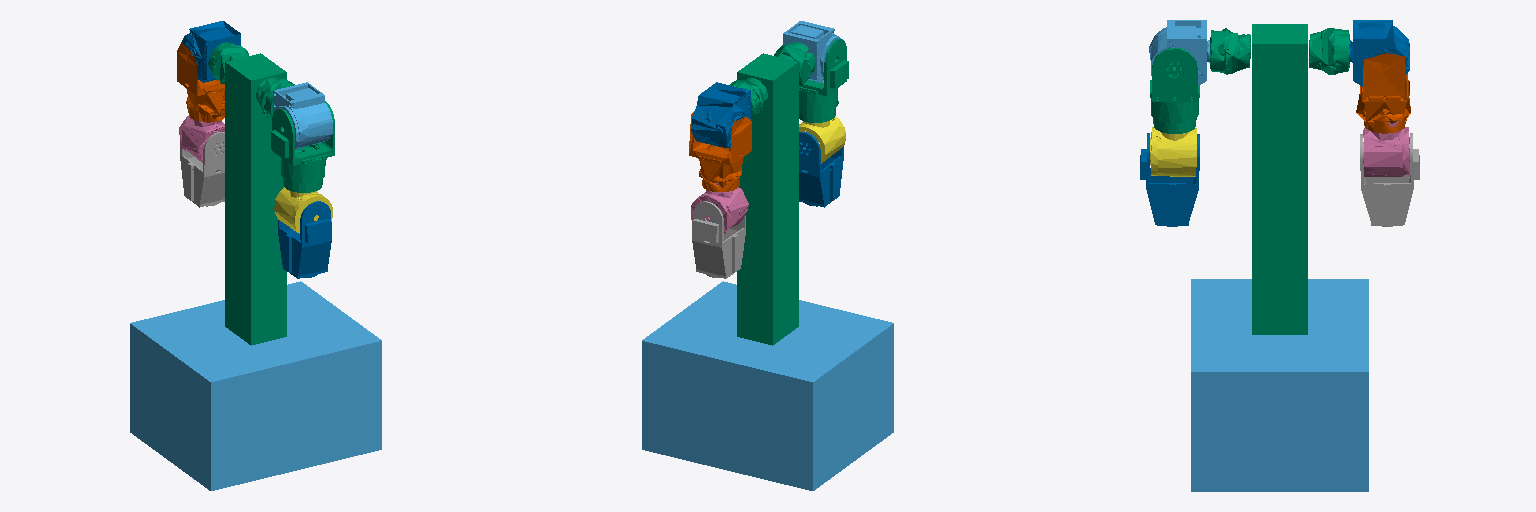
robot.urdf — b1_humanoid_v0:
<?xml version="1.0"?>
<!-- 자동 생성: build_v0_urdf.py (week04, 박종진). 값 출처는 assumptions-v0.md / link-split-v0.md -->
<robot name="b1_humanoid_v0">
  <mujoco>
    <compiler meshdir="../meshes/" fusestatic="false" discardvisual="false" balanceinertia="false"/>
  </mujoco>

  <link name="odom"/>
  <joint name="base_planar_joint" type="planar">
    <parent link="odom"/>
    <child link="base_link"/>
    <origin xyz="0 0 0" rpy="0 0 0"/>
    <axis xyz="0 0 1"/>
  </joint>

  <link name="base_link">
    <inertial>
      <origin xyz="0 0 0.238167" rpy="0 0 0"/>
      <mass value="33.69"/>
      <inertia ixx="1.01175" iyy="1.31774" izz="1.55693" ixy="0" ixz="0" iyz="0"/>
    </inertial>
    <visual name="base_lower_visual">
      <origin xyz="0 0 0.2190"/>
      <geometry><box size="0.576 0.472 0.3380"/></geometry>
    </visual>
    <collision name="base_lower_collision">
      <origin xyz="0 0 0.2190"/>
      <geometry><box size="0.576 0.472 0.3380"/></geometry>
    </collision>
    <visual name="base_plate_visual">
      <origin xyz="0 0 0.3940"/>
      <geometry><box size="0.576 0.472 0.0120"/></geometry>
    </visual>
    <collision name="base_plate_collision">
      <origin xyz="0 0 0.3940"/>
      <geometry><box size="0.576 0.472 0.0120"/></geometry>
    </collision>
  </link>
  <joint name="torso_fixed_joint" type="fixed">
    <parent link="base_link"/>
    <child link="torso_link"/>
    <origin xyz="0 0 1.2" rpy="0 0 0"/>
  </joint>

  <link name="torso_link">
    <inertial>
      <origin xyz="5.01887e-05 -1.34735e-06 -0.248686" rpy="0 0 0"/>
      <mass value="12.063"/>
      <inertia ixx="0.950137" iyy="0.876333" izz="0.0991423" ixy="1.60604e-09" ixz="-0.000150566" iyz="0.000111909"/>
    </inertial>
    <visual name="torso_actuators_visual">
      <geometry><mesh filename="torso_link_visual.stl"/></geometry>
    </visual>
    <collision name="torso_actuators_collision">
      <geometry><mesh filename="torso_link_collision.stl"/></geometry>
    </collision>
    <visual name="torso_box_visual">
      <origin xyz="0 0 -0.3750"/>
      <geometry><box size="0.12 0.15 0.8500"/></geometry>
    </visual>
    <collision name="torso_box_collision">
      <origin xyz="0 0 -0.3750"/>
      <geometry><box size="0.12 0.15 0.8500"/></geometry>
    </collision>
  </link>

  <joint name="cad_frame_joint" type="fixed">
    <parent link="torso_link"/>
    <child link="cad_frame"/>
    <origin xyz="0 0.11815 0" rpy="1.5708 0 1.5708"/>
  </joint>
  <link name="cad_frame">
    <inertial>
      <mass value="0.001"/>
      <inertia ixx="1e-7" iyy="1e-7" izz="1e-7" ixy="0" ixz="0" iyz="0"/>
    </inertial>
  </link>

  <joint name="left_shoulder_pitch_joint" type="revolute">
    <parent link="torso_link"/>
    <child link="left_shoulder_pitch_link"/>
    <origin xyz="0 0.16975 0" rpy="0 0 0"/>
    <axis xyz="0 1 0"/>
    <limit lower="-3.0" upper="3.0" effort="100.0" velocity="3.0"/>
    <dynamics damping="0.5" friction="0.0"/>
  </joint>
  <link name="left_shoulder_pitch_link">
    <inertial>
      <origin xyz="0.000163 0.082815 -0.011301" rpy="0 0 0"/>
      <mass value="4.3963"/>
      <inertia ixx="0.0166562" iyy="0.0114135" izz="0.0147659" ixy="0.000299613" ixz="-0.000220698" iyz="0.000988489"/>
    </inertial>
    <visual name="left_shoulder_pitch_visual">
      <geometry><mesh filename="left_shoulder_pitch_link_visual.stl"/></geometry>
    </visual>
    <collision name="left_shoulder_pitch_collision">
      <geometry><mesh filename="left_shoulder_pitch_link_collision.stl"/></geometry>
    </collision>
  </link>
  <joint name="left_shoulder_roll_joint" type="revolute">
    <parent link="left_shoulder_pitch_link"/>
    <child link="left_shoulder_roll_link"/>
    <origin xyz="0 0.1079 -0.02" rpy="0 0 0"/>
    <axis xyz="1 0 0"/>
    <limit lower="-0.28" upper="1.5" effort="100.0" velocity="3.0"/>
    <dynamics damping="0.5" friction="0.0"/>
  </joint>
  <link name="left_shoulder_roll_link">
    <inertial>
      <origin xyz="-0.000215 0.000139 -0.095874" rpy="0 0 0"/>
      <mass value="4.1696"/>
      <inertia ixx="0.0208169" iyy="0.0247167" izz="0.0122861" ixy="3.651e-06" ixz="-0.00102148" iyz="-3.691e-06"/>
    </inertial>
    <visual name="left_shoulder_roll_visual">
      <geometry><mesh filename="left_shoulder_roll_link_visual.stl"/></geometry>
    </visual>
    <collision name="left_shoulder_roll_collision">
      <geometry><mesh filename="left_shoulder_roll_link_collision.stl"/></geometry>
    </collision>
  </link>
  <joint name="left_shoulder_yaw_joint" type="revolute">
    <parent link="left_shoulder_roll_link"/>
    <child link="left_shoulder_yaw_link"/>
    <origin xyz="0 0 -0.1823" rpy="0 0 -1.5708"/>
    <axis xyz="0 0 1"/>
    <limit lower="-2.5" upper="2.5" effort="100.0" velocity="3.0"/>
    <dynamics damping="0.5" friction="0.0"/>
  </joint>
  <link name="left_shoulder_yaw_link">
    <inertial>
      <origin xyz="-0.00379999 -0.001658 -0.077168" rpy="0 0 0"/>
      <mass value="3.3364"/>
      <inertia ixx="0.00984427" iyy="0.0100491" izz="0.00641762" ixy="-1.2339e-05" ixz="-0.000184265" iyz="-1.229e-06"/>
    </inertial>
    <visual name="left_shoulder_yaw_visual">
      <geometry><mesh filename="left_shoulder_yaw_link_visual.stl"/></geometry>
    </visual>
    <collision name="left_shoulder_yaw_collision">
      <geometry><mesh filename="left_shoulder_yaw_link_collision.stl"/></geometry>
    </collision>
  </link>
  <joint name="left_elbow_joint" type="revolute">
    <parent link="left_shoulder_yaw_link"/>
    <child link="left_elbow_link"/>
    <origin xyz="0 0 -0.0938" rpy="0 0 0"/>
    <axis xyz="1 0 0"/>
    <limit lower="-1.83" upper="1.83" effort="100.0" velocity="3.0"/>
    <dynamics damping="0.5" friction="0.0"/>
  </joint>
  <link name="left_elbow_link">
    <inertial>
      <origin xyz="-0.00366599 -0.001732 -0.079298" rpy="0 0 0"/>
      <mass value="2.2677"/>
      <inertia ixx="0.0144908" iyy="0.0178861" izz="0.00821005" ixy="-9.25e-07" ixz="-0.000888535" iyz="-8.733e-06"/>
    </inertial>
    <visual name="left_elbow_visual">
      <geometry><mesh filename="left_elbow_link_visual.stl"/></geometry>
    </visual>
    <collision name="left_elbow_collision">
      <geometry><mesh filename="left_elbow_link_collision.stl"/></geometry>
    </collision>
  </link>
  <joint name="left_tool0_joint" type="fixed">
    <parent link="left_elbow_link"/>
    <child link="left_tool0"/>
    <origin xyz="-0.009 0 -0.1989" rpy="0 0 0"/>
  </joint>
  <link name="left_tool0">
    <inertial>
      <mass value="0.001"/>
      <inertia ixx="1e-7" iyy="1e-7" izz="1e-7" ixy="0" ixz="0" iyz="0"/>
    </inertial>
  </link>

  <joint name="right_shoulder_pitch_joint" type="revolute">
    <parent link="torso_link"/>
    <child link="right_shoulder_pitch_link"/>
    <origin xyz="0 -0.16975 0" rpy="0 0 0"/>
    <axis xyz="0 1 0"/>
    <limit lower="-3.0" upper="3.0" effort="100.0" velocity="3.0"/>
    <dynamics damping="0.5" friction="0.0"/>
  </joint>
  <link name="right_shoulder_pitch_link">
    <inertial>
      <origin xyz="0.000163 -0.082815 -0.011301" rpy="0 0 0"/>
      <mass value="4.3963"/>
      <inertia ixx="0.0166562" iyy="0.0114135" izz="0.0147659" ixy="-0.000299613" ixz="-0.000220698" iyz="-0.000988489"/>
    </inertial>
    <visual name="right_shoulder_pitch_visual">
      <geometry><mesh filename="right_shoulder_pitch_link_visual.stl"/></geometry>
    </visual>
    <collision name="right_shoulder_pitch_collision">
      <geometry><mesh filename="right_shoulder_pitch_link_collision.stl"/></geometry>
    </collision>
  </link>
  <joint name="right_shoulder_roll_joint" type="revolute">
    <parent link="right_shoulder_pitch_link"/>
    <child link="right_shoulder_roll_link"/>
    <origin xyz="0 -0.1079 -0.02" rpy="0 0 0"/>
    <axis xyz="-1 0 0"/>
    <limit lower="-0.28" upper="1.5" effort="100.0" velocity="3.0"/>
    <dynamics damping="0.5" friction="0.0"/>
  </joint>
  <link name="right_shoulder_roll_link">
    <inertial>
      <origin xyz="-0.000215 -0.000139 -0.095874" rpy="0 0 0"/>
      <mass value="4.1696"/>
      <inertia ixx="0.0208169" iyy="0.0247167" izz="0.0122861" ixy="-3.651e-06" ixz="-0.00102148" iyz="3.691e-06"/>
    </inertial>
    <visual name="right_shoulder_roll_visual">
      <geometry><mesh filename="right_shoulder_roll_link_visual.stl"/></geometry>
    </visual>
    <collision name="right_shoulder_roll_collision">
      <geometry><mesh filename="right_shoulder_roll_link_collision.stl"/></geometry>
    </collision>
  </link>
  <joint name="right_shoulder_yaw_joint" type="revolute">
    <parent link="right_shoulder_roll_link"/>
    <child link="right_shoulder_yaw_link"/>
    <origin xyz="0 0 -0.1823" rpy="0 0 1.5708"/>
    <axis xyz="0 0 -1"/>
    <limit lower="-2.5" upper="2.5" effort="100.0" velocity="3.0"/>
    <dynamics damping="0.5" friction="0.0"/>
  </joint>
  <link name="right_shoulder_yaw_link">
    <inertial>
      <origin xyz="-0.00379999 0.001658 -0.077168" rpy="0 0 0"/>
      <mass value="3.3364"/>
      <inertia ixx="0.00984427" iyy="0.0100491" izz="0.00641762" ixy="1.2339e-05" ixz="-0.000184265" iyz="1.229e-06"/>
    </inertial>
    <visual name="right_shoulder_yaw_visual">
      <geometry><mesh filename="right_shoulder_yaw_link_visual.stl"/></geometry>
    </visual>
    <collision name="right_shoulder_yaw_collision">
      <geometry><mesh filename="right_shoulder_yaw_link_collision.stl"/></geometry>
    </collision>
  </link>
  <joint name="right_elbow_joint" type="revolute">
    <parent link="right_shoulder_yaw_link"/>
    <child link="right_elbow_link"/>
    <origin xyz="0 0 -0.0938" rpy="0 0 0"/>
    <axis xyz="-1 0 0"/>
    <limit lower="-1.83" upper="1.83" effort="100.0" velocity="3.0"/>
    <dynamics damping="0.5" friction="0.0"/>
  </joint>
  <link name="right_elbow_link">
    <inertial>
      <origin xyz="-0.00366599 0.001732 -0.079298" rpy="0 0 0"/>
      <mass value="2.2677"/>
      <inertia ixx="0.0144908" iyy="0.0178861" izz="0.00821005" ixy="9.25e-07" ixz="-0.000888535" iyz="8.733e-06"/>
    </inertial>
    <visual name="right_elbow_visual">
      <geometry><mesh filename="right_elbow_link_visual.stl"/></geometry>
    </visual>
    <collision name="right_elbow_collision">
      <geometry><mesh filename="right_elbow_link_collision.stl"/></geometry>
    </collision>
  </link>
  <joint name="right_tool0_joint" type="fixed">
    <parent link="right_elbow_link"/>
    <child link="right_tool0"/>
    <origin xyz="-0.009 0 -0.1989" rpy="0 0 0"/>
  </joint>
  <link name="right_tool0">
    <inertial>
      <mass value="0.001"/>
      <inertia ixx="1e-7" iyy="1e-7" izz="1e-7" ixy="0" ixz="0" iyz="0"/>
    </inertial>
  </link>

</robot>

--- Facts derived from the render (not from the file) ---
3 views of the same robot in one strip: view 1: azimuth 30°, elevation 25°; view 2: azimuth 150°, elevation 25°; view 3: azimuth 270°, elevation 25° (orthographic).
Robot: b1_humanoid_v0 — 14 links, 13 joints (8 revolute, 4 fixed, 1 planar); root link odom; default pose: all joints at 0.
Visible links, largest first — view 1: base_link, torso_link, right_elbow_link, right_shoulder_roll_link, right_shoulder_pitch_link, left_elbow_link, left_shoulder_roll_link, left_shoulder_pitch_link, right_shoulder_yaw_link, left_shoulder_yaw_link; view 2: base_link, torso_link, left_elbow_link, left_shoulder_pitch_link, left_shoulder_roll_link, right_elbow_link, right_shoulder_roll_link, right_shoulder_pitch_link, left_shoulder_yaw_link, right_shoulder_yaw_link; view 3: base_link, torso_link, right_shoulder_roll_link, left_shoulder_roll_link, left_elbow_link, right_elbow_link, left_shoulder_pitch_link, left_shoulder_yaw_link, right_shoulder_yaw_link, right_shoulder_pitch_link.
Link boxes in pixels (x1,y1,x2,y2): base_link: [130, 281, 381, 490]; torso_link: [208, 42, 294, 345]; right_elbow_link: [278, 201, 331, 278]; right_shoulder_roll_link: [271, 101, 334, 192]; right_shoulder_pitch_link: [273, 82, 332, 149]; left_elbow_link: [180, 132, 224, 207]; left_shoulder_roll_link: [177, 42, 224, 122]; left_shoulder_pitch_link: [182, 21, 240, 82]; right_shoulder_yaw_link: [274, 187, 332, 233]; left_shoulder_yaw_link: [179, 116, 224, 162]; base_link: [642, 281, 893, 490]; torso_link: [730, 42, 815, 345]; left_elbow_link: [692, 201, 745, 278]; left_shoulder_pitch_link: [691, 82, 750, 147]; left_shoulder_roll_link: [689, 112, 751, 191]; right_elbow_link: [799, 132, 843, 207]; right_shoulder_roll_link: [799, 39, 848, 122]; right_shoulder_pitch_link: [783, 21, 842, 83]; left_shoulder_yaw_link: [691, 182, 748, 233]; right_shoulder_yaw_link: [799, 116, 845, 163]; base_link: [1191, 279, 1368, 491]; torso_link: [1210, 24, 1349, 334]; right_shoulder_roll_link: [1150, 48, 1199, 133]; left_shoulder_roll_link: [1356, 53, 1410, 133]; left_elbow_link: [1360, 133, 1419, 226]; right_elbow_link: [1140, 133, 1199, 226]; left_shoulder_pitch_link: [1342, 20, 1409, 86]; left_shoulder_yaw_link: [1363, 121, 1409, 176]; right_shoulder_yaw_link: [1150, 127, 1196, 176]; right_shoulder_pitch_link: [1149, 20, 1209, 85].
Bounding box of the posed robot: 0.576 × 0.7392 × 1.22 m (x, y, z).
Meshes: 9 distinct files referenced, 9 mesh visuals loaded (9 binary STL).
